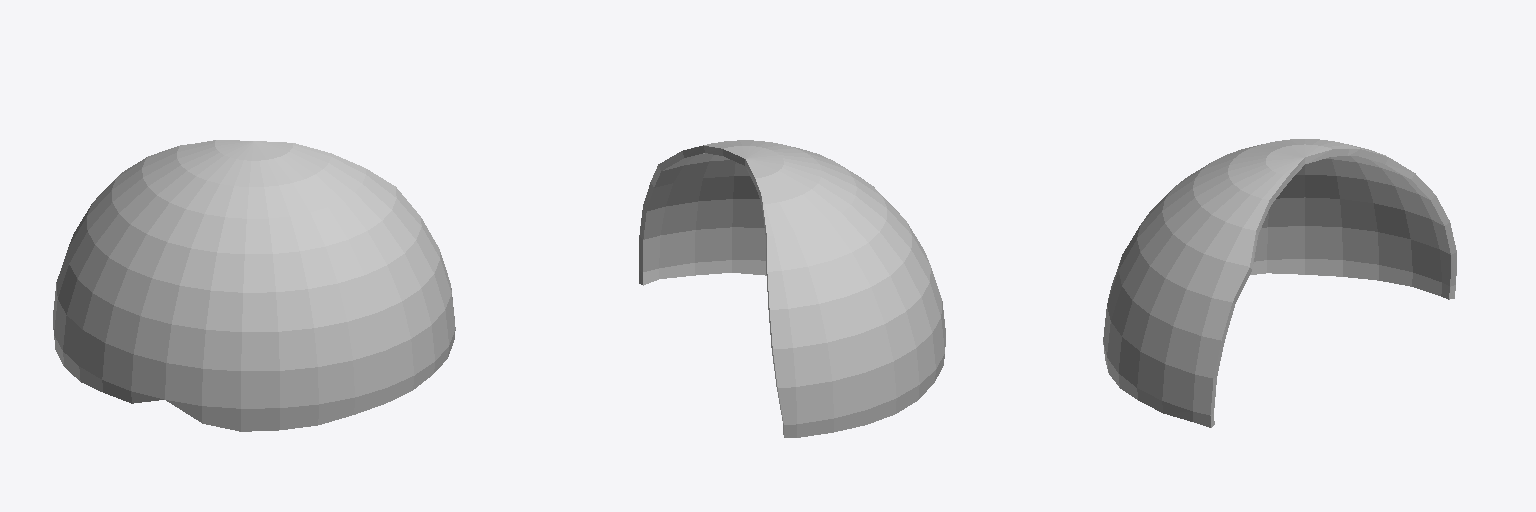
The model's file is ball_piece3.obj.
The picture shows the model from 3 angles: view 1: azimuth 30°, elevation 25°; view 2: azimuth 150°, elevation 25°; view 3: azimuth 270°, elevation 25°; orthographic projection.
Parts seen in each view (by area): view 1: piece3_Sphere.004; view 2: piece3_Sphere.004; view 3: piece3_Sphere.004.
Part boxes in pixels (bbox=[...]): piece3_Sphere.004: bbox=[53, 140, 455, 431]; piece3_Sphere.004: bbox=[639, 140, 945, 437]; piece3_Sphere.004: bbox=[1103, 139, 1456, 427].
Bounding box in the file's own units: 0.4884 × 0.2943 × 0.4556.